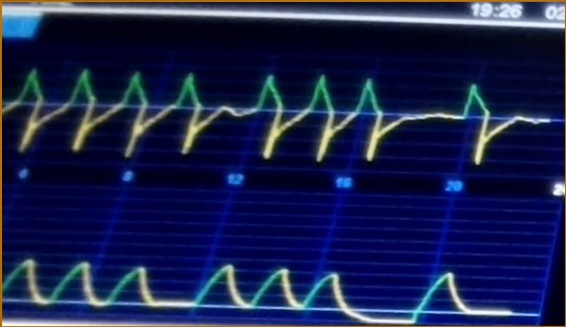Ineffective_effort Flow: (5, 63, 546, 164)
Ineffective_effort Volume: (3, 248, 512, 323)
